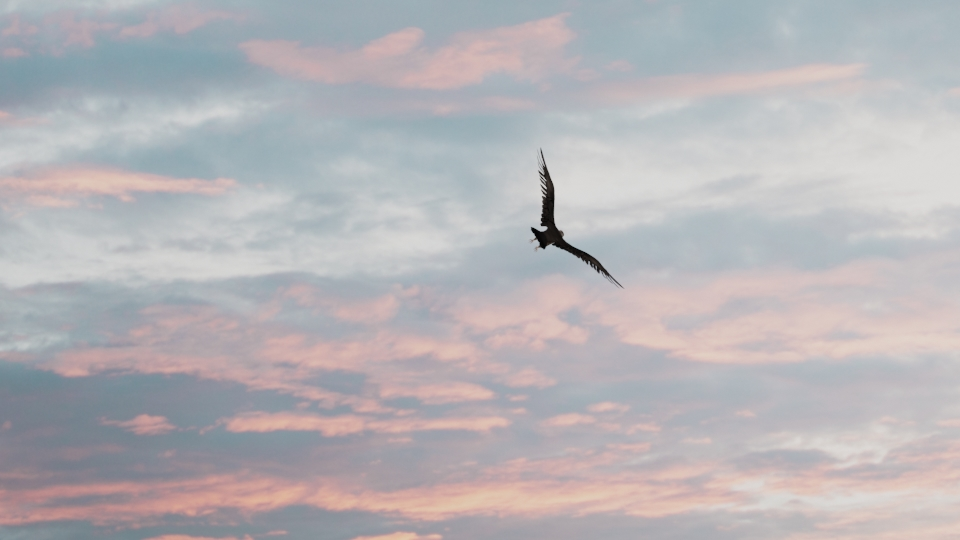bird: (528, 147, 626, 291)
